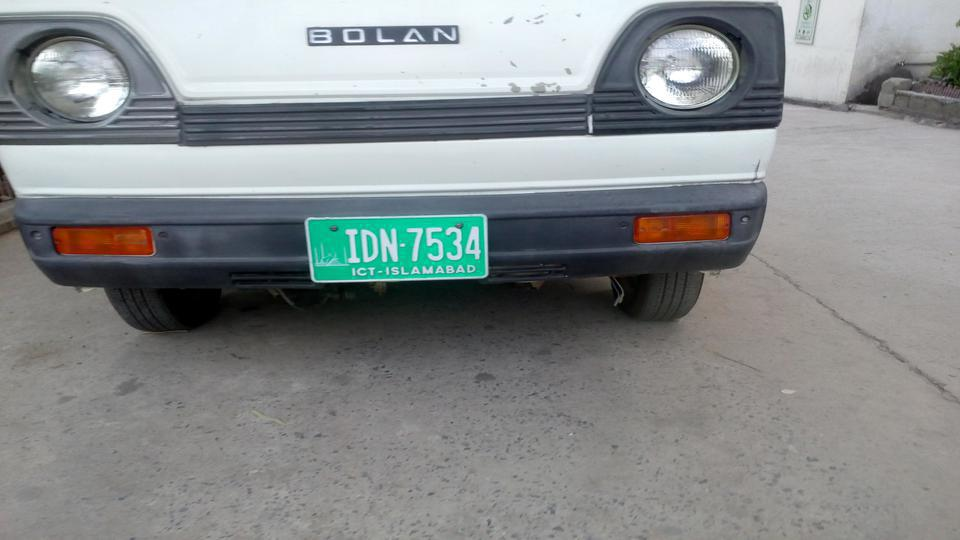NumberPlate: (305, 217, 489, 282)
